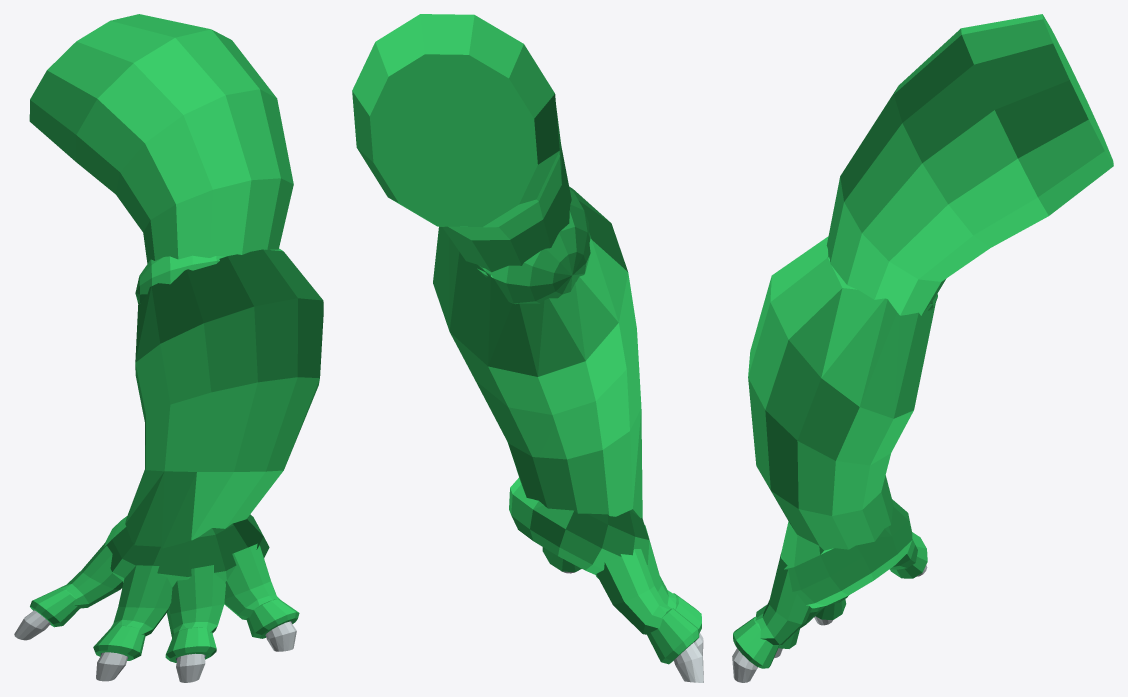
File: Leg.fbx
3 renders of one model, left to right at view 1: azimuth 30°, elevation 25°; view 2: azimuth 150°, elevation 25°; view 3: azimuth 270°, elevation 25°, orthographic. The views are drawn at different scales.
Visible parts, largest first — view 1: group1832439925; view 2: group1832439925; view 3: group1832439925.
Part boxes in pixels (bbox=[...]): group1832439925: bbox=[14, 14, 323, 682]; group1832439925: bbox=[352, 14, 703, 682]; group1832439925: bbox=[732, 14, 1113, 682].
Size of the model in its own units: 36.91 by 74.03 by 38.86.
